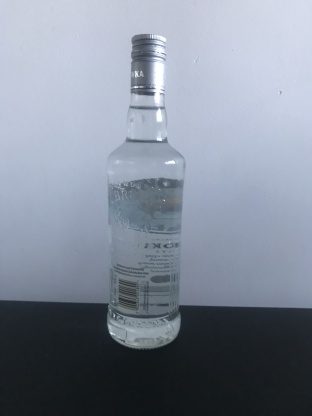nakretka: (129, 31, 167, 97)
